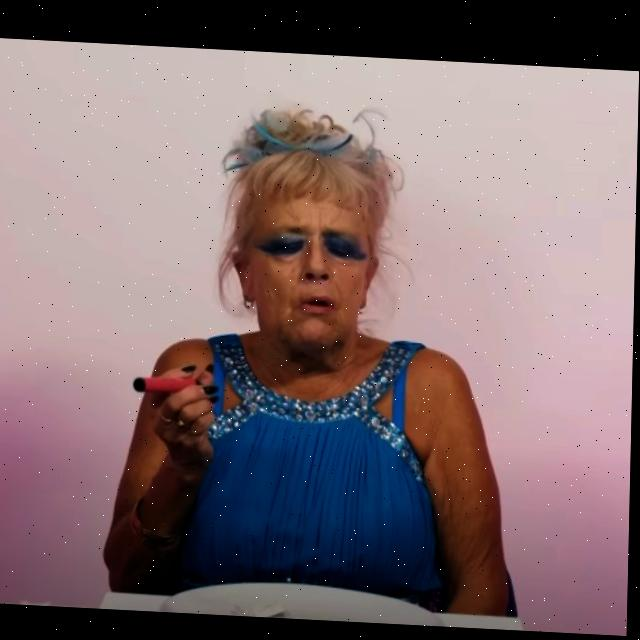vape: (135, 374, 206, 393)
